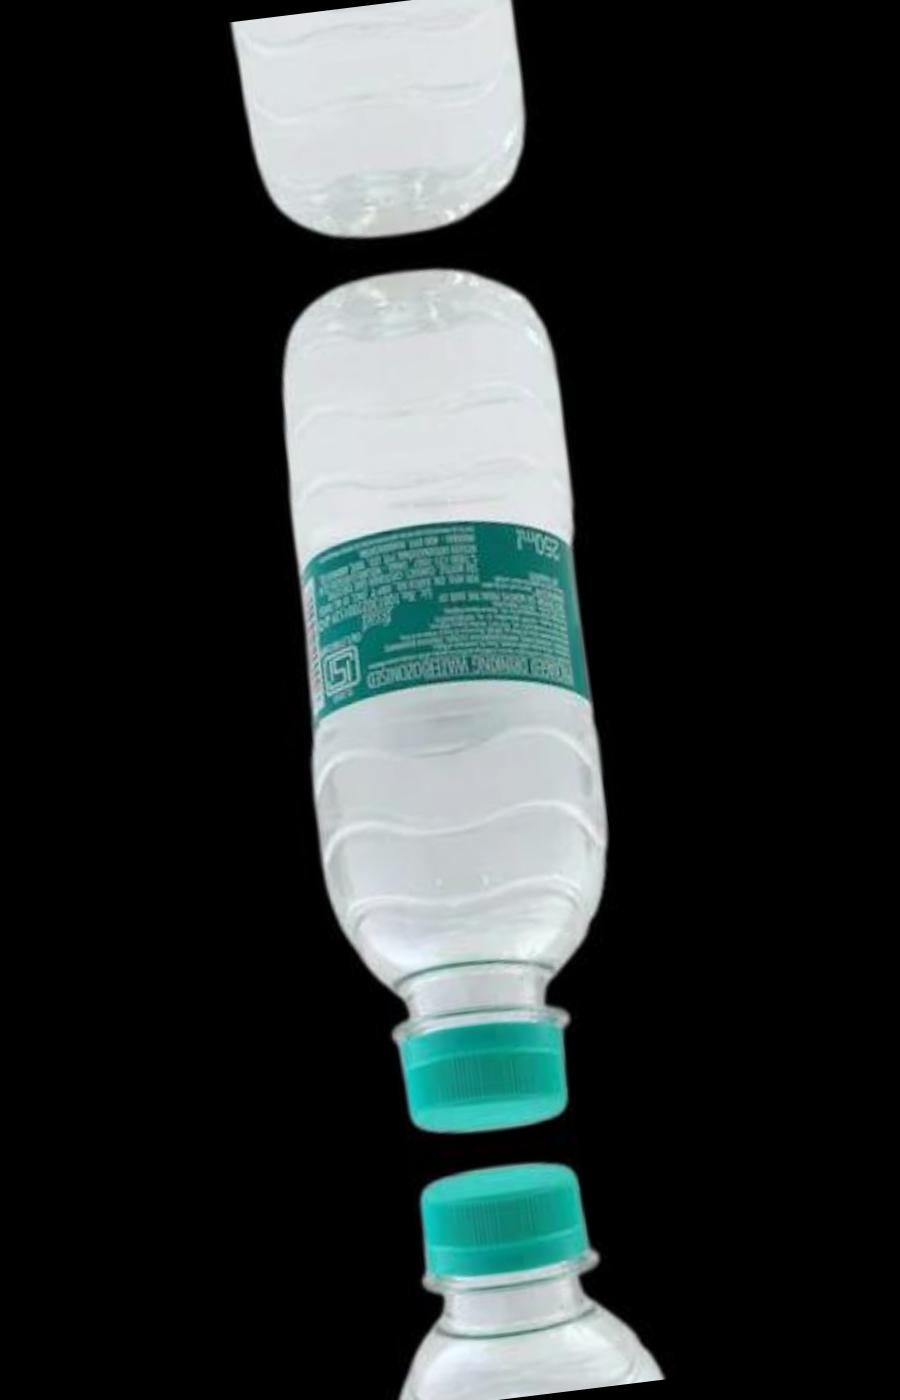Bisleri Packaged Drinking Water 250 ml: (249, 254, 651, 1150), (359, 1143, 684, 1400), (217, 0, 542, 253)
